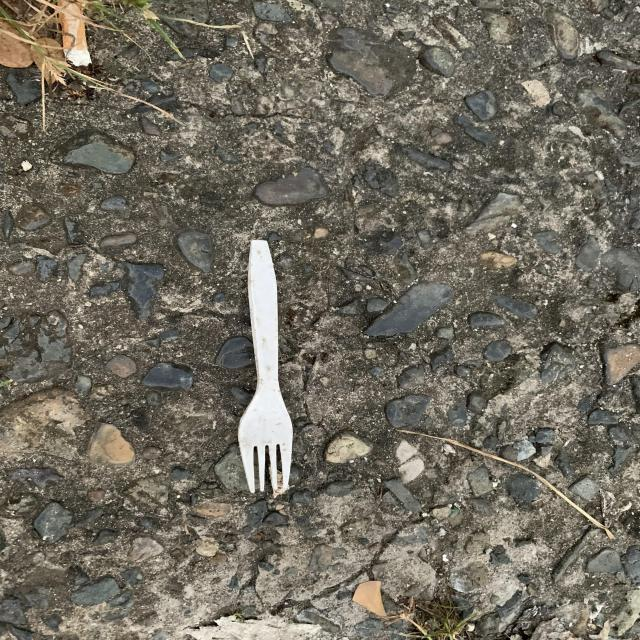litter: (236, 239, 291, 493), (57, 3, 96, 73)
